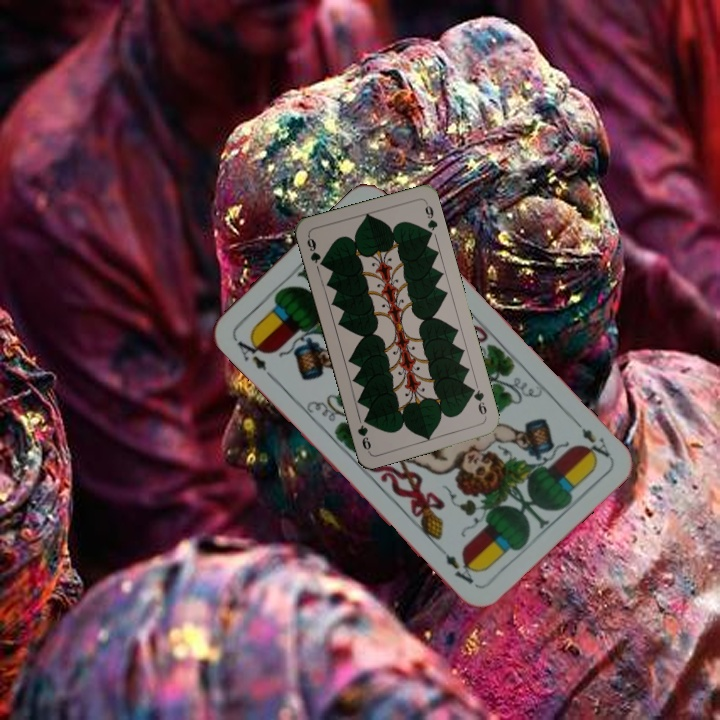EA: (568, 413, 613, 464), (230, 332, 270, 373)
G9: (303, 232, 328, 270), (466, 383, 489, 417)
